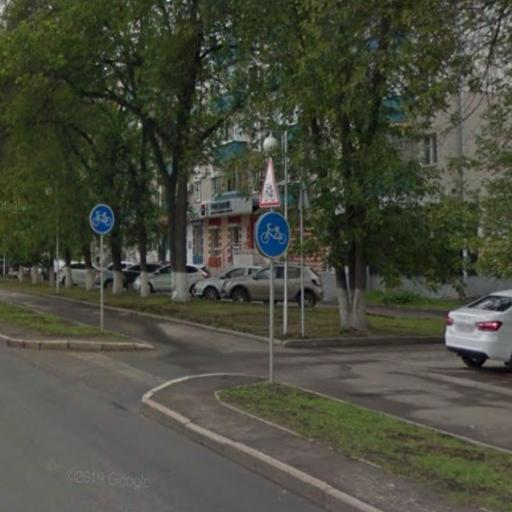traffic_sign: (254, 211, 293, 262), (258, 156, 284, 211), (88, 202, 117, 238)
